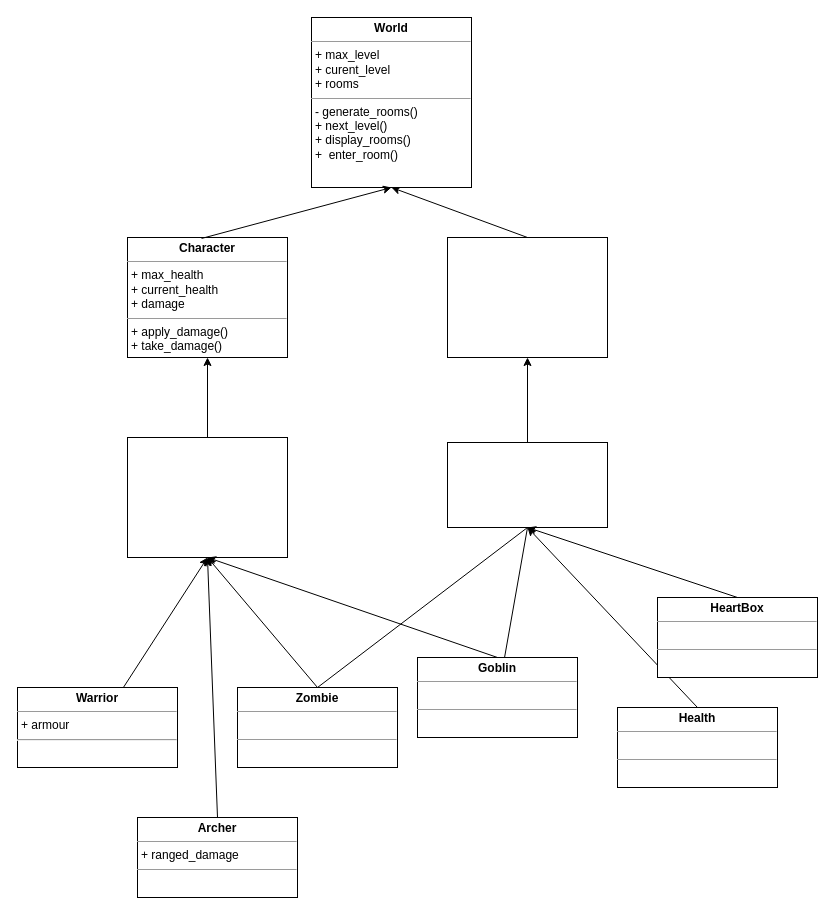
This 835x915 diagram has some shape labels left out. Each missing label, with the centre of its shape:
"Item + apply_effect( )" belongs at pixel 527 485.
"Player + pick_up + increase_max_health + add health + display_stats" belongs at pixel 207 497.
"Room + items + enemies - obj (private) + get_object()" belongs at pixel 527 297.
